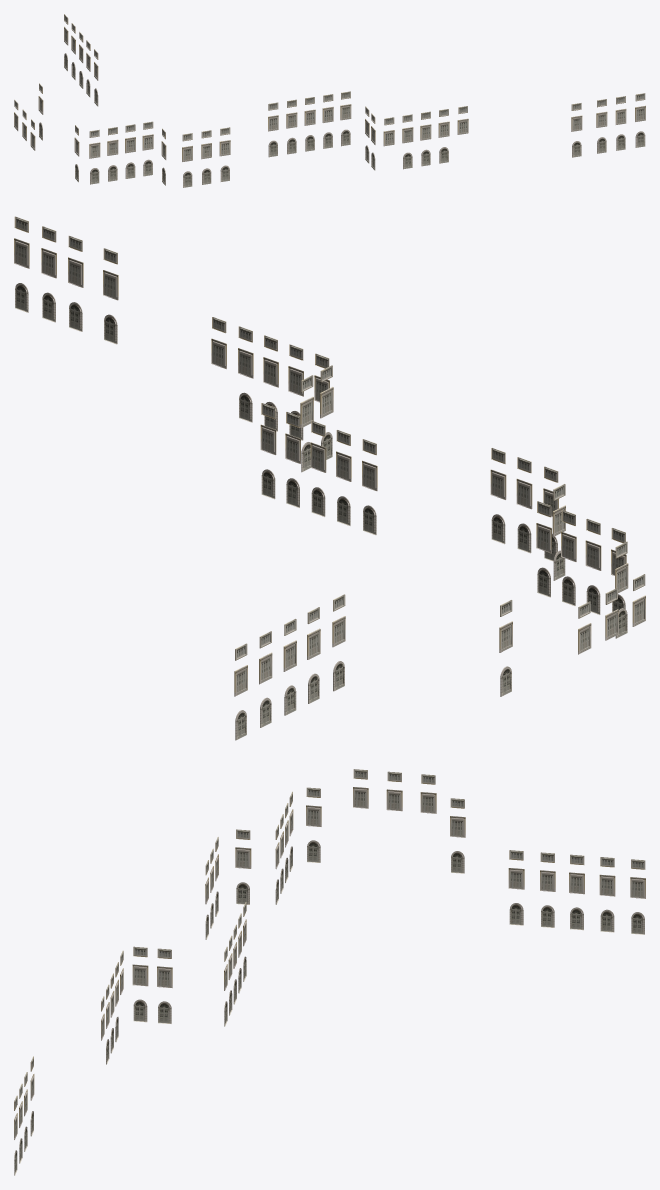
The picture shows the model from 3 angles, top to bottom: view 1: azimuth 30°, elevation 25°; view 2: azimuth 150°, elevation 25°; view 3: azimuth 270°, elevation 25°; orthographic projection. The views are drawn at different scales.
Size of the model in its own units: 114 by 11.9 by 91.71.
Materials: 1 (1 with a texture image).
